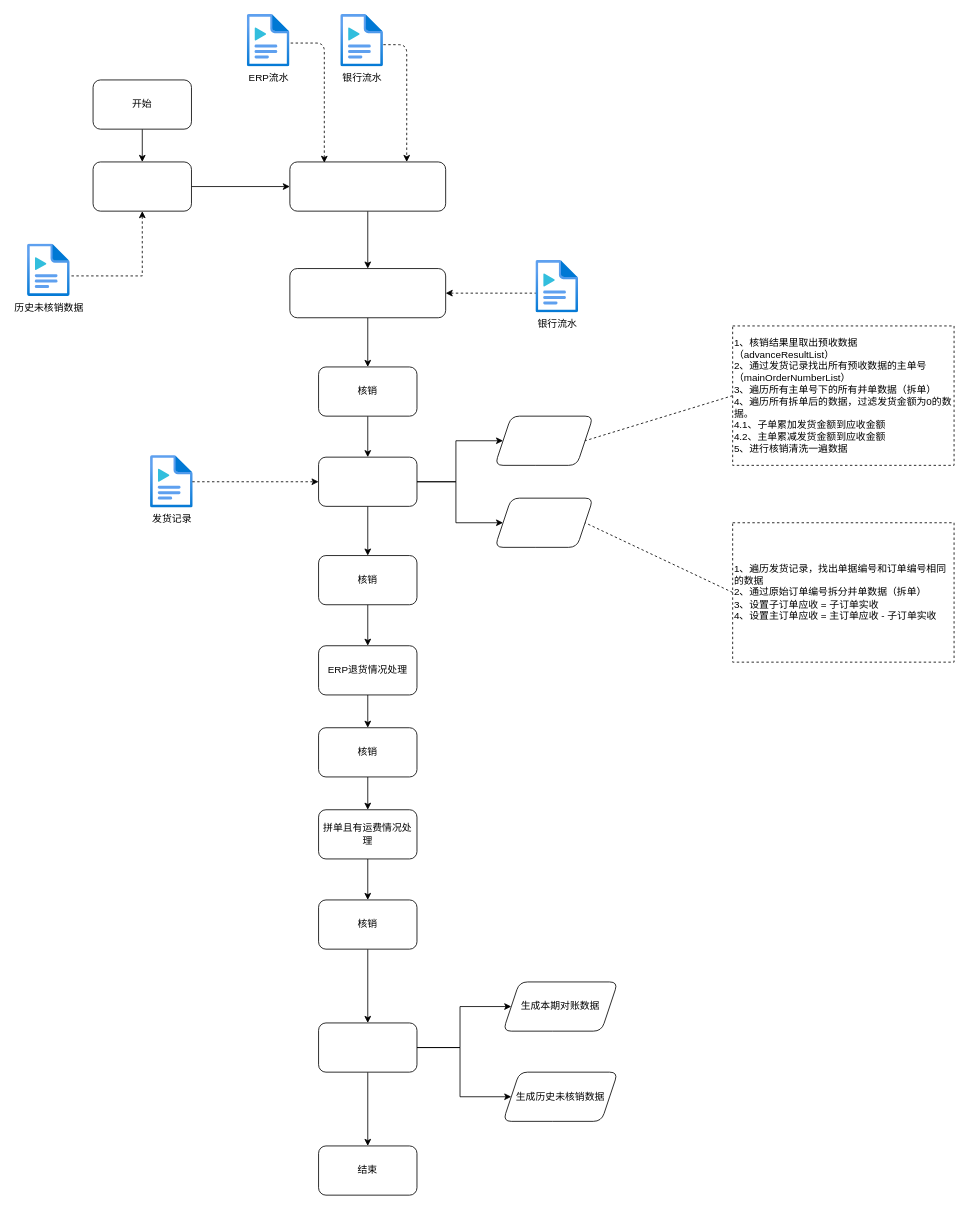
This 968x1210 diagram has some shape labels left out. Each missing label, with the centre of its shape:
反向对账: 银行流水->ERP流水 （检查预收）: (367,293)
导入历史未核销数据: (141,186)
导出对账结果: (367,1047)
并单处理: (367,481)
并单逻辑一: (543,440)
并单逻辑二: (543,522)
正向对账: ERP流水->银行流水 （检查未收）: (367,186)
